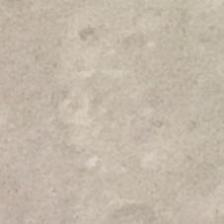Non_Crack: (12, 25, 224, 185)
